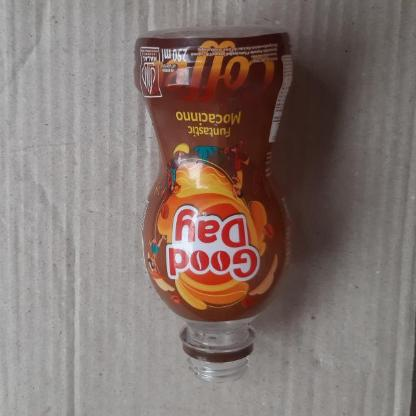Plastic Bottle: (131, 21, 296, 380)
